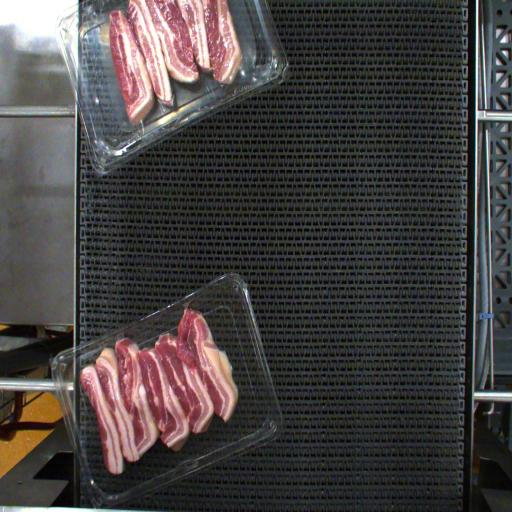packaging-error: (112, 329, 128, 341), (181, 299, 194, 313)
